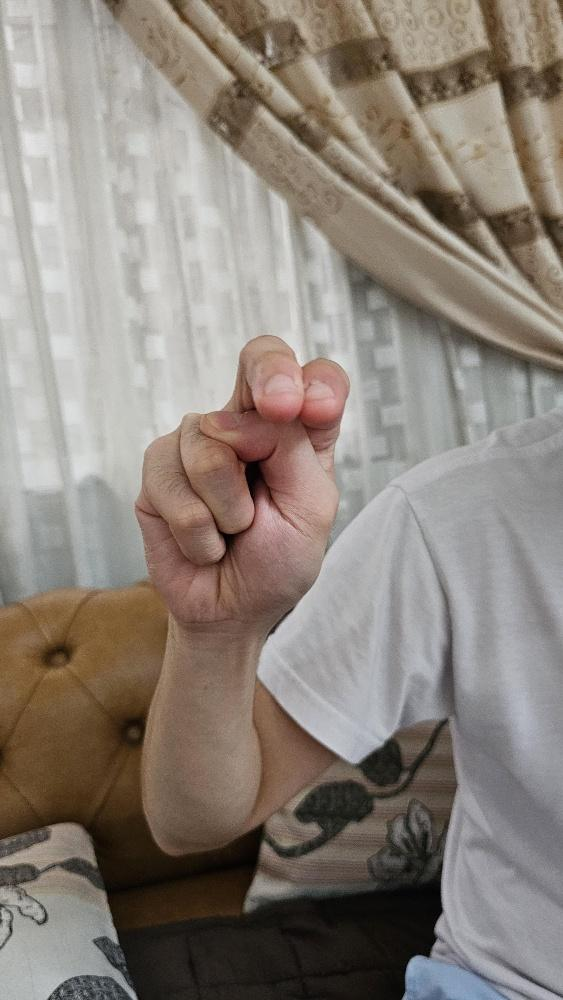n: (129, 329, 351, 635)
